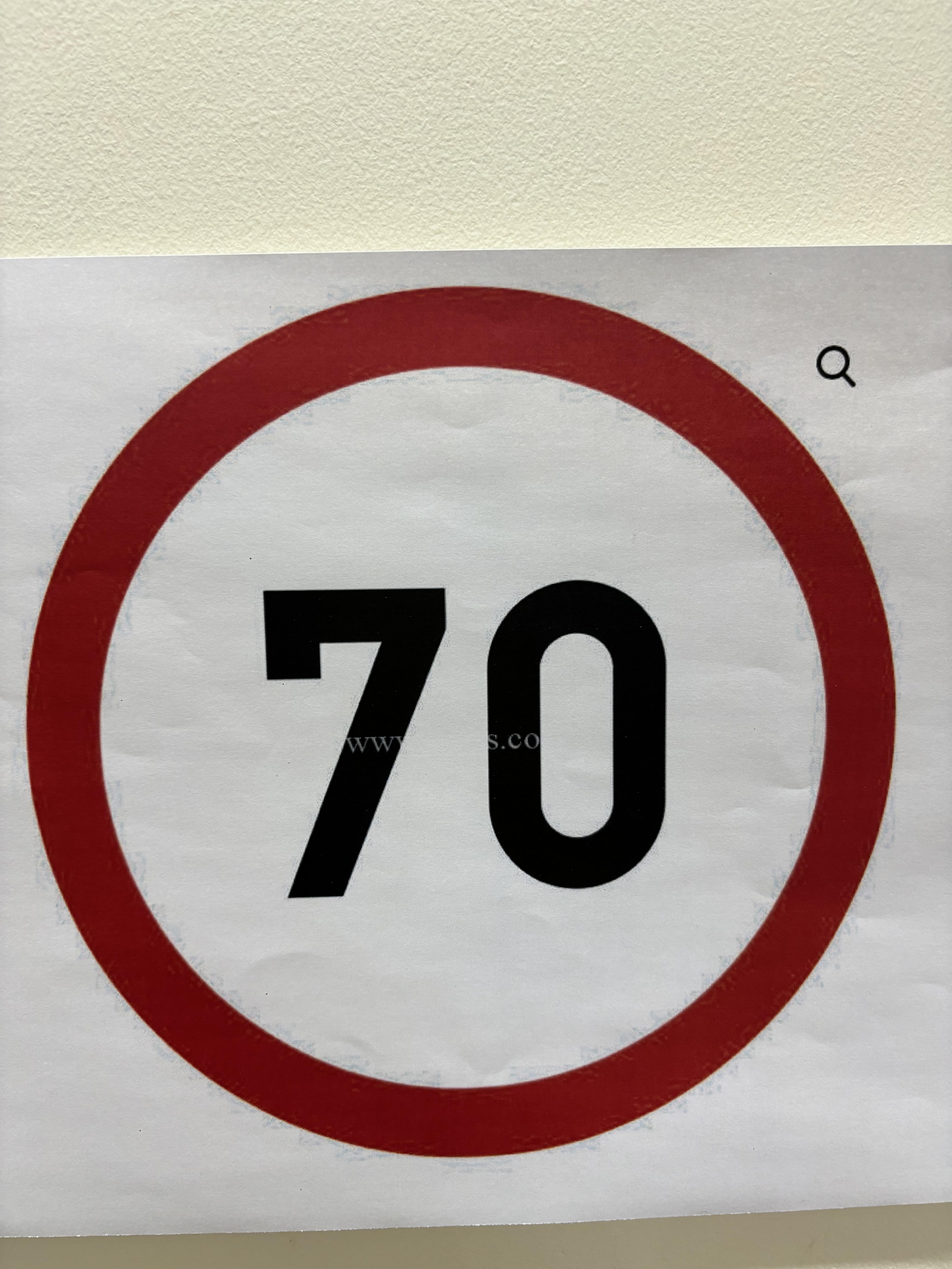70-Speed: (19, 285, 894, 1157)
